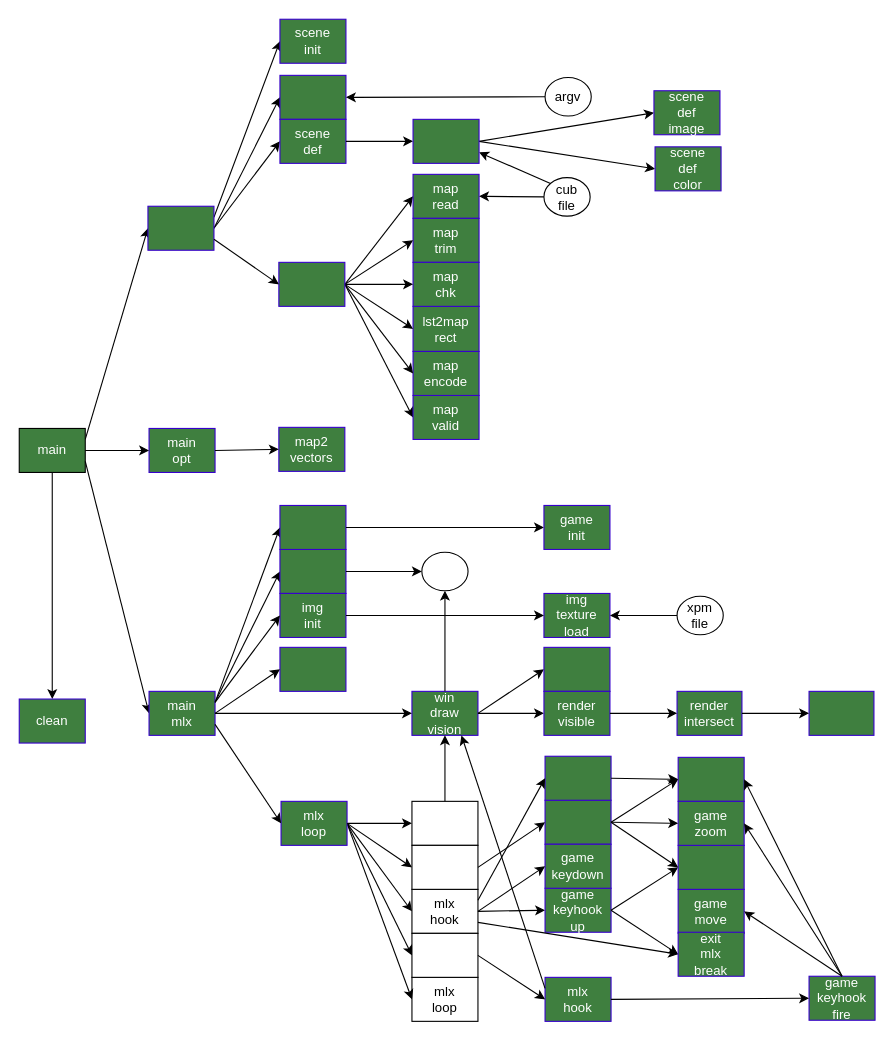
The diagram is 894 pixels wide and 1041 high, and some of its shapes have lost their labels. Here are the shapes that lost their labels. From the top down, the centre of each, then its label:
At point (312, 96): "scene open".
At point (445, 140): "scene def sub".
At point (180, 227): "main scene".
At point (311, 283): "scene getmap".
At point (312, 526): "mlx init".
At point (312, 570): "win init".
At point (444, 571): "window".
At point (312, 668): "render hud init".
At point (576, 668): "render bakgnd".
At point (841, 712): "render elevation".
At point (577, 777): "game cursorhook".
At point (710, 778): "game turn".
At point (444, 822): "mlx expose hook".
At point (577, 821): "game clickhook".
At point (444, 866): "mlx mouse hook".
At point (710, 866): "game speed".
At point (444, 954): "mlx loop hook".
